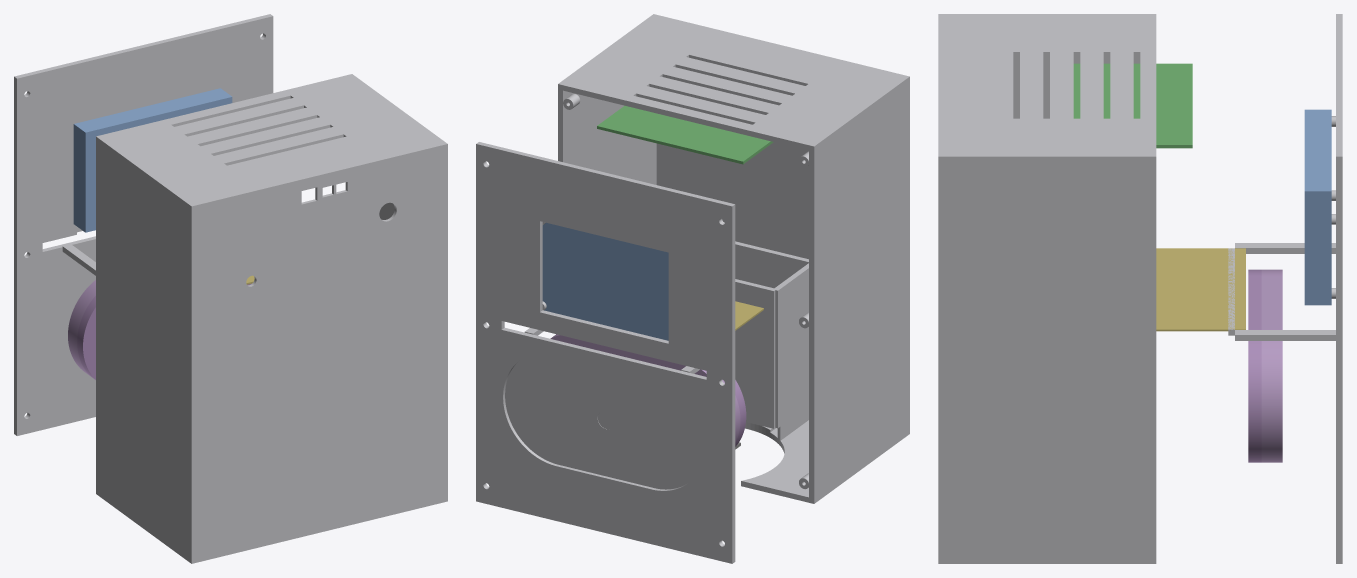
The model's file is assembly_exploded.glb.
3 views of the same model, side by side, from view 1: azimuth 30°, elevation 25°; view 2: azimuth 150°, elevation 25°; view 3: azimuth 270°, elevation 25° (orthographic). The views are drawn at different scales.
Parts seen in each view (by area): view 1: rear_shell, front_shell, display, puck_bottom, puck_top; view 2: rear_shell, front_shell, display, pi, puck_top; view 3: rear_shell, card, front_shell, display, pi, puck_top, puck_bottom.
Boxes of the visible parts, x1,y1,x2,y2 form: rear_shell: (96,74,447,563); front_shell: (14,14,273,435); display: (73,88,232,232); puck_bottom: (77,283,251,379); puck_top: (68,280,95,377); rear_shell: (558,14,909,503); front_shell: (476,142,735,563); display: (542,222,668,340); pi: (597,105,773,164); puck_top: (550,334,740,442); rear_shell: (938,14,1156,563); card: (1156,248,1245,331); front_shell: (1228,14,1342,563); display: (1304,109,1331,305); pi: (1073,63,1192,148); puck_top: (1261,269,1282,462); puck_bottom: (1248,269,1261,462).
Size of the model in its own units: 150 by 200 by 180.
